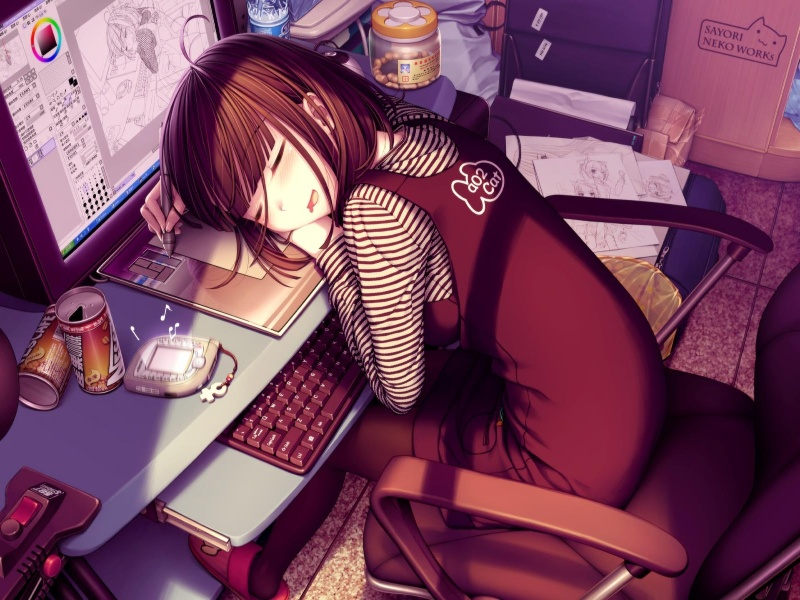keyboard: (242, 329, 371, 477)
person: (157, 30, 378, 253)
